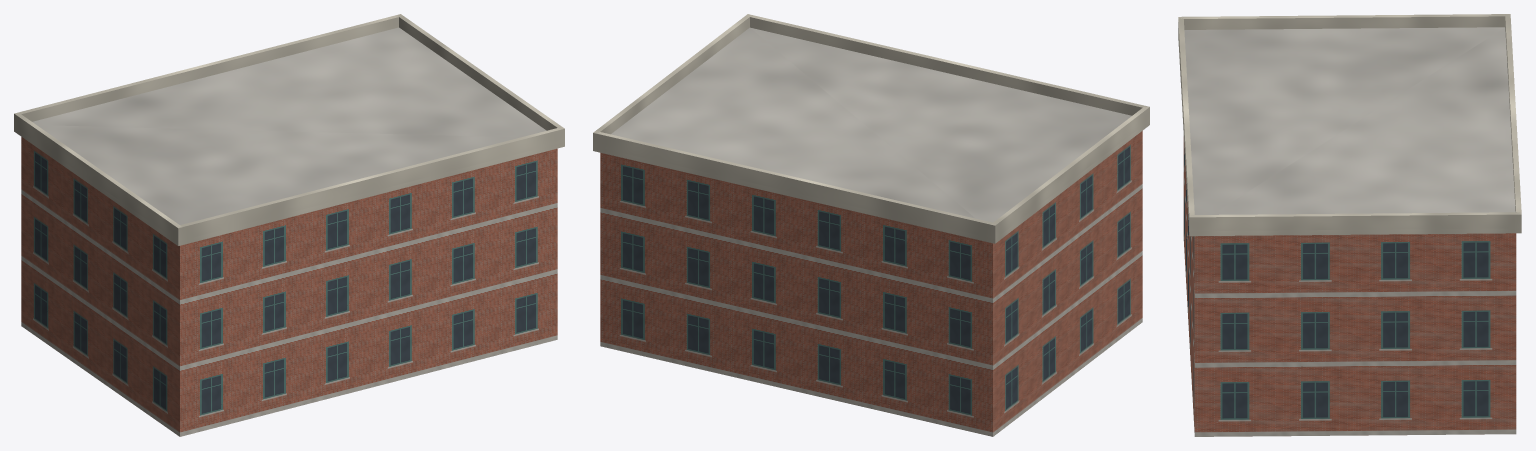
Rendered from SM_MoloItalia_EdificioEst.fbx.
3 renders of one model, left to right at view 1: azimuth 30°, elevation 25°; view 2: azimuth 150°, elevation 25°; view 3: azimuth 270°, elevation 25°, orthographic. The views are drawn at different scales.
Parts seen in each view (by area): view 1: SM_MoloItalia_EdificioEst; view 2: SM_MoloItalia_EdificioEst; view 3: SM_MoloItalia_EdificioEst.
Part boxes in pixels (box(x1,y1,x2,y2)): SM_MoloItalia_EdificioEst: box(14, 14, 564, 436); SM_MoloItalia_EdificioEst: box(593, 14, 1149, 436); SM_MoloItalia_EdificioEst: box(1178, 14, 1521, 436).
Size of what is drawn, in the model's own units: 2201 by 1571 by 1120.
Materials: 2 (2 with a texture image).
